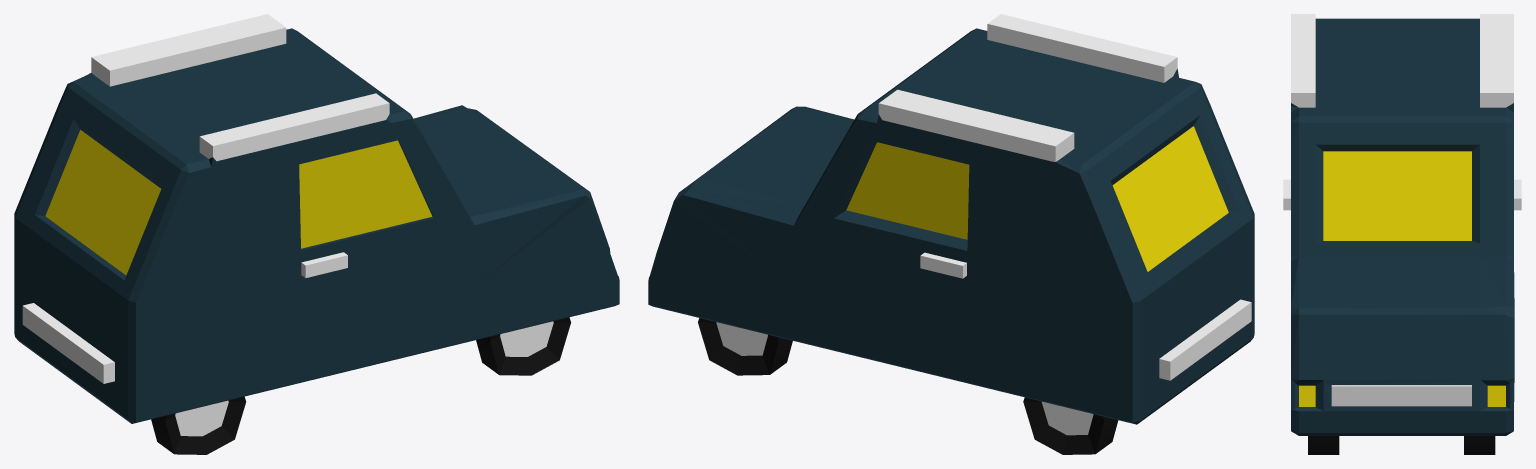
Rendered from car.FBX.
The picture shows the model from 3 angles, left to right: view 1: azimuth 30°, elevation 25°; view 2: azimuth 150°, elevation 25°; view 3: azimuth 270°, elevation 25°; orthographic projection. The views are drawn at different scales.
Parts seen in each view (by area): view 1: Box005; view 2: Box005; view 3: Box005.
Boxes of the visible parts, <box> form: Box005: <box>14,14,619,454</box>; Box005: <box>648,14,1254,454</box>; Box005: <box>1283,14,1521,454</box>.
Bounding box in the file's own units: 567 × 340 × 254.
